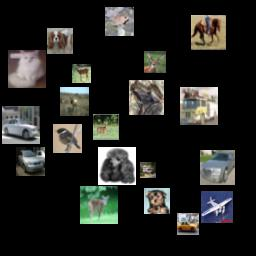airplane: (201, 191, 233, 223)
automobile: (2, 106, 40, 144), (200, 150, 235, 185), (16, 147, 45, 176), (177, 213, 199, 235)
bird: (53, 124, 82, 153)
cat: (8, 50, 46, 88)
deer: (80, 186, 118, 224), (60, 87, 89, 116), (93, 114, 119, 140), (144, 51, 166, 73), (72, 64, 91, 83)
dog: (98, 147, 136, 185), (144, 188, 170, 214), (47, 28, 73, 54)
frog: (129, 80, 164, 115), (105, 7, 134, 36)
truck: (180, 87, 218, 125), (140, 162, 156, 178)
